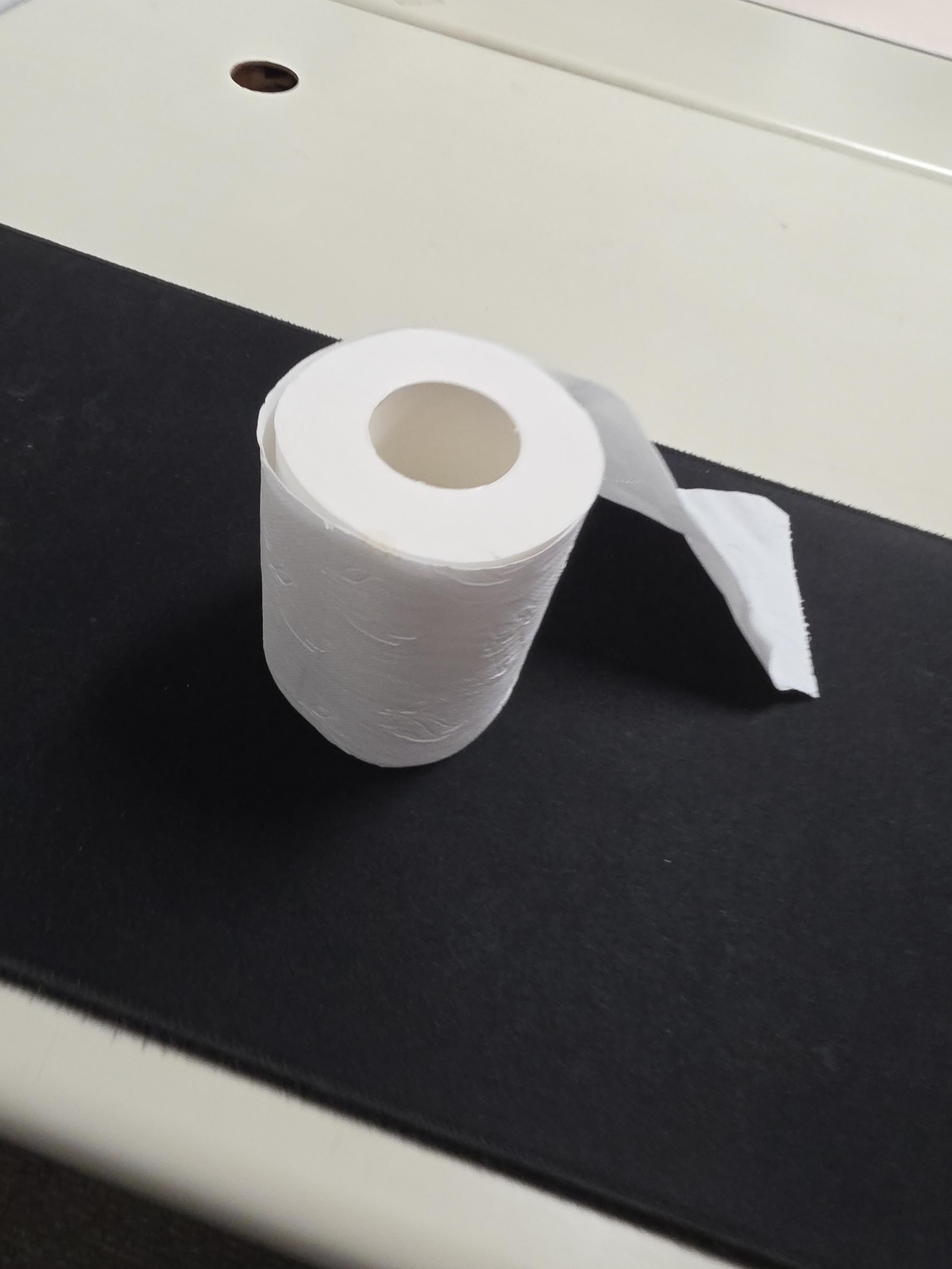tissue: (256, 328, 821, 769)
